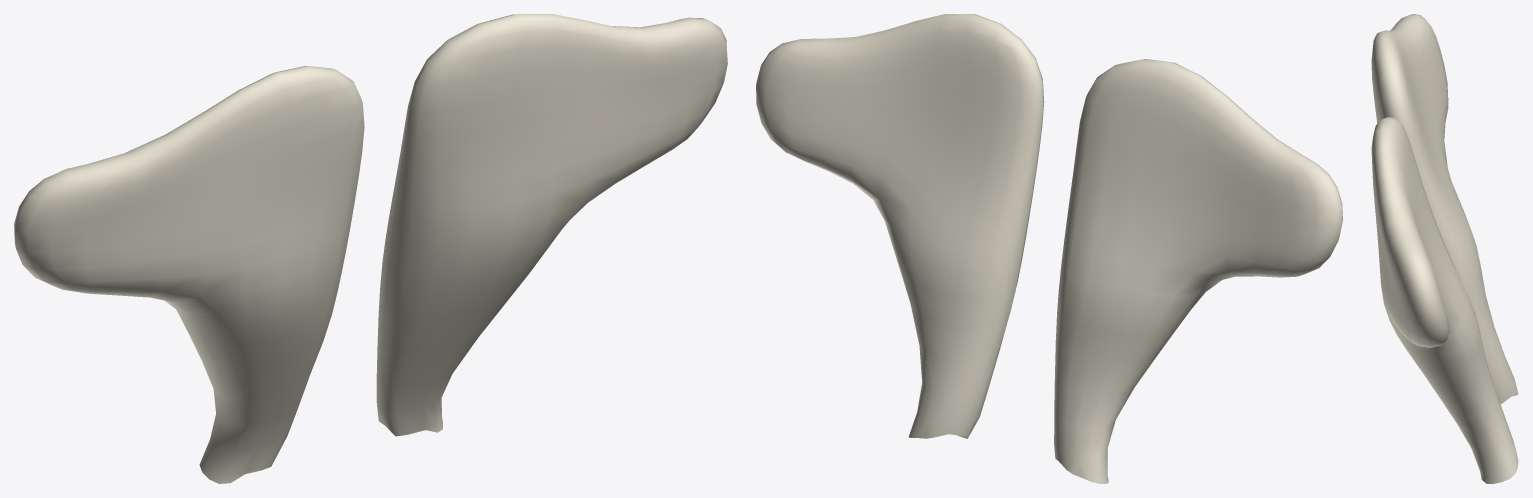
3 renders of one model, left to right at view 1: azimuth 30°, elevation 25°; view 2: azimuth 150°, elevation 25°; view 3: azimuth 270°, elevation 25°, orthographic. The views are drawn at different scales.
Parts seen in each view (by area): view 1: ZA_ebb4e50743b934c0; view 2: ZA_ebb4e50743b934c0; view 3: ZA_ebb4e50743b934c0.
Boxes of the visible parts, x1,y1,x2,y2 form: ZA_ebb4e50743b934c0: (14,14,727,483); ZA_ebb4e50743b934c0: (756,14,1342,483); ZA_ebb4e50743b934c0: (1371,14,1518,483).
Size of the model in its own units: 0.0504 by 0.0312 by 0.0116.
